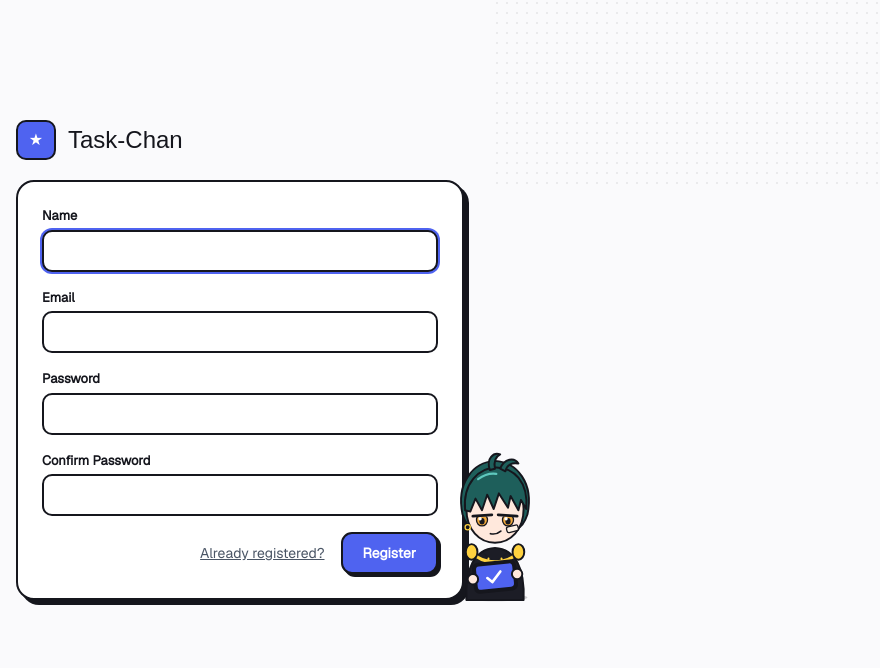
Test: auth forms › shows the server message when registration is closed and stops the form
The width and height of the screenshot is (880, 668).
Step 1. Type "Ada" into the field labelled "Name" → (240, 250), box [42, 230, 438, 272]
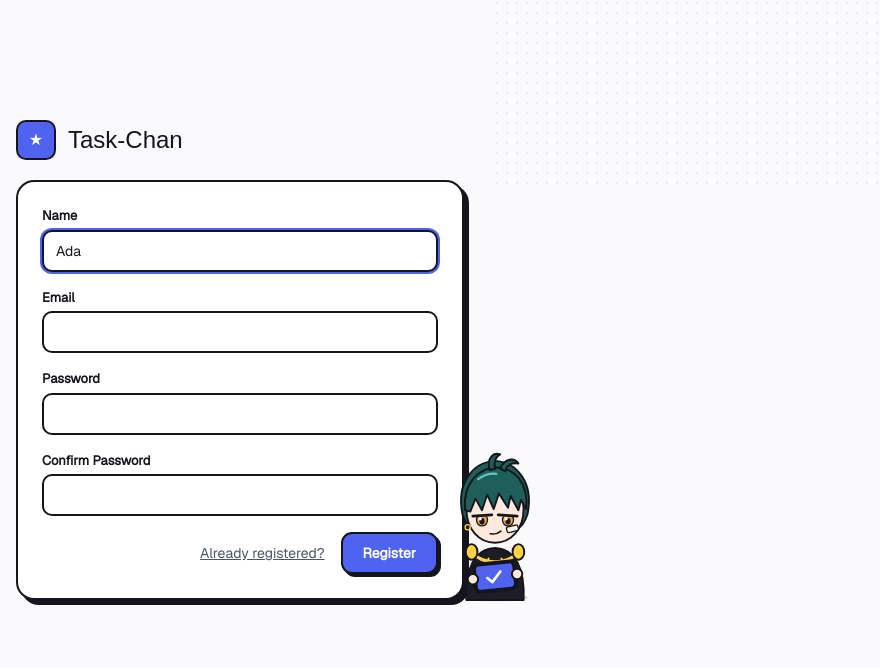
Step 2. Type "ada@example.com" into the field labelled "Email" → (240, 332), box [42, 311, 438, 353]
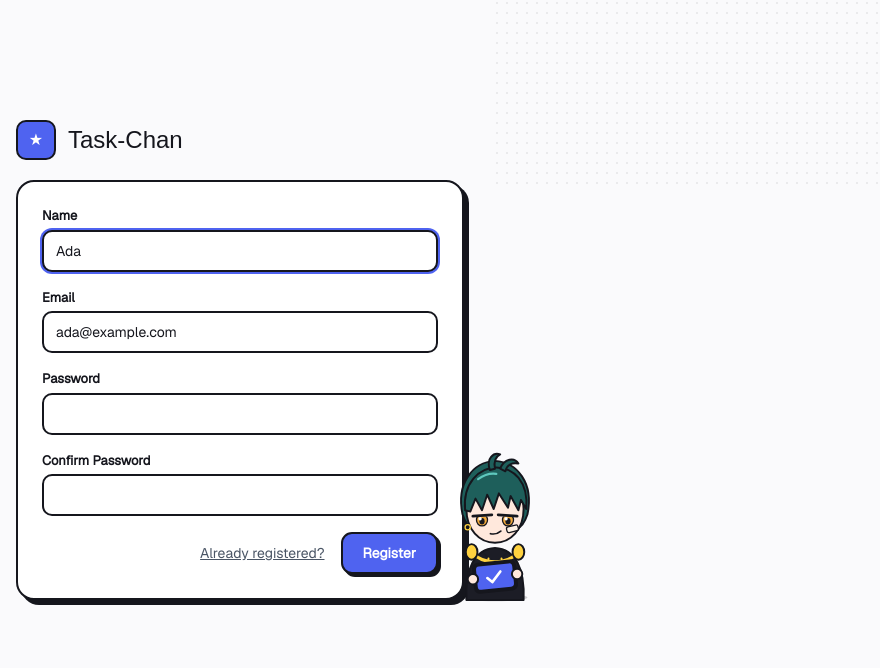
Step 3. Type "password" into the password field labelled "Password" → (240, 414), box [42, 392, 438, 434]
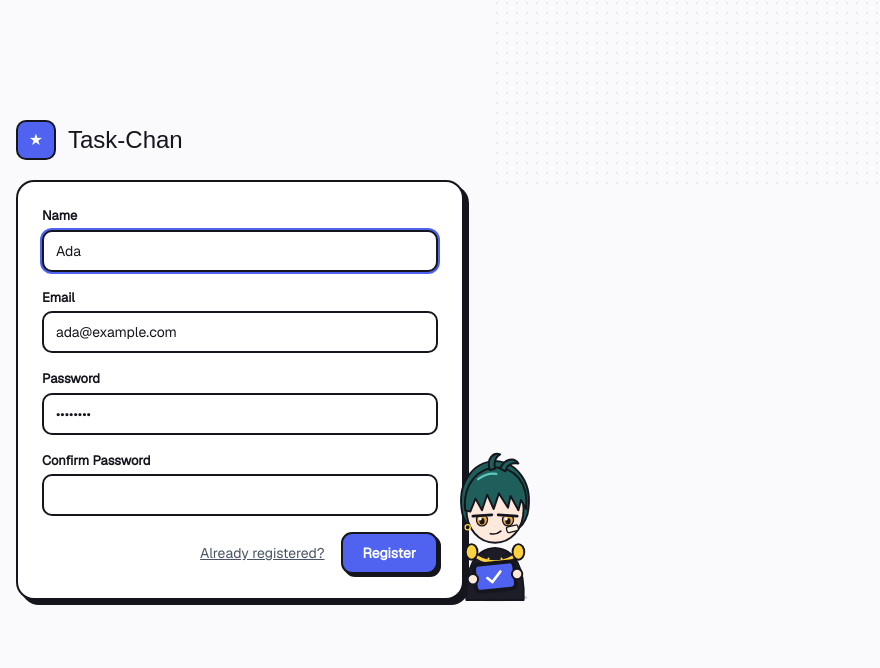
Step 4. Type "password" into the password field labelled "Confirm Password" → (240, 495), box [42, 474, 438, 516]
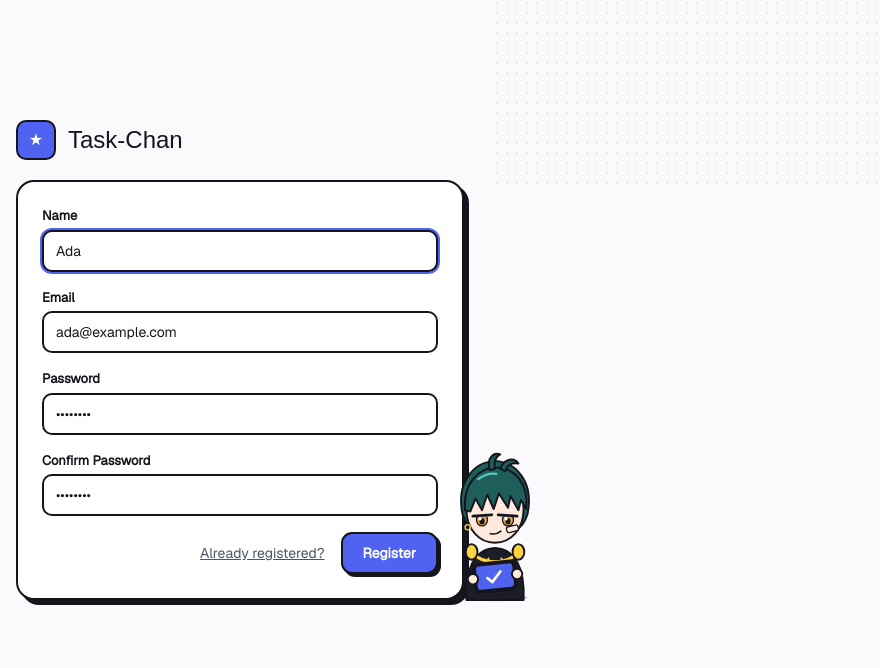
Step 5. Click the button "Register" → (389, 553), box [340, 532, 438, 574]
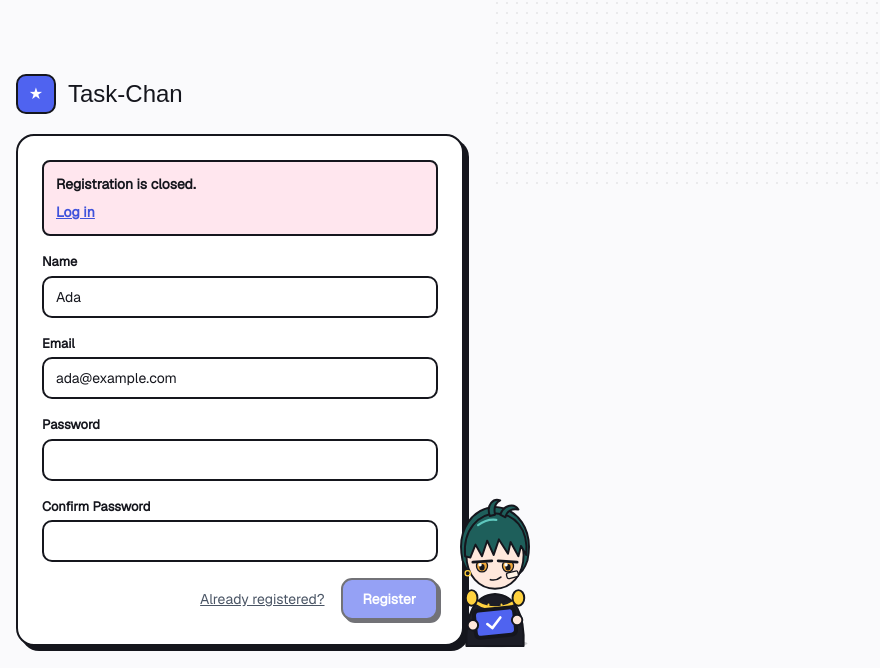
Now the message shows "Registration is closed.", box [56, 175, 196, 193]
Now the field labelled "Name" is disabled, box [42, 276, 438, 318]
Now the field labelled "Email" is disabled, box [42, 357, 438, 399]
